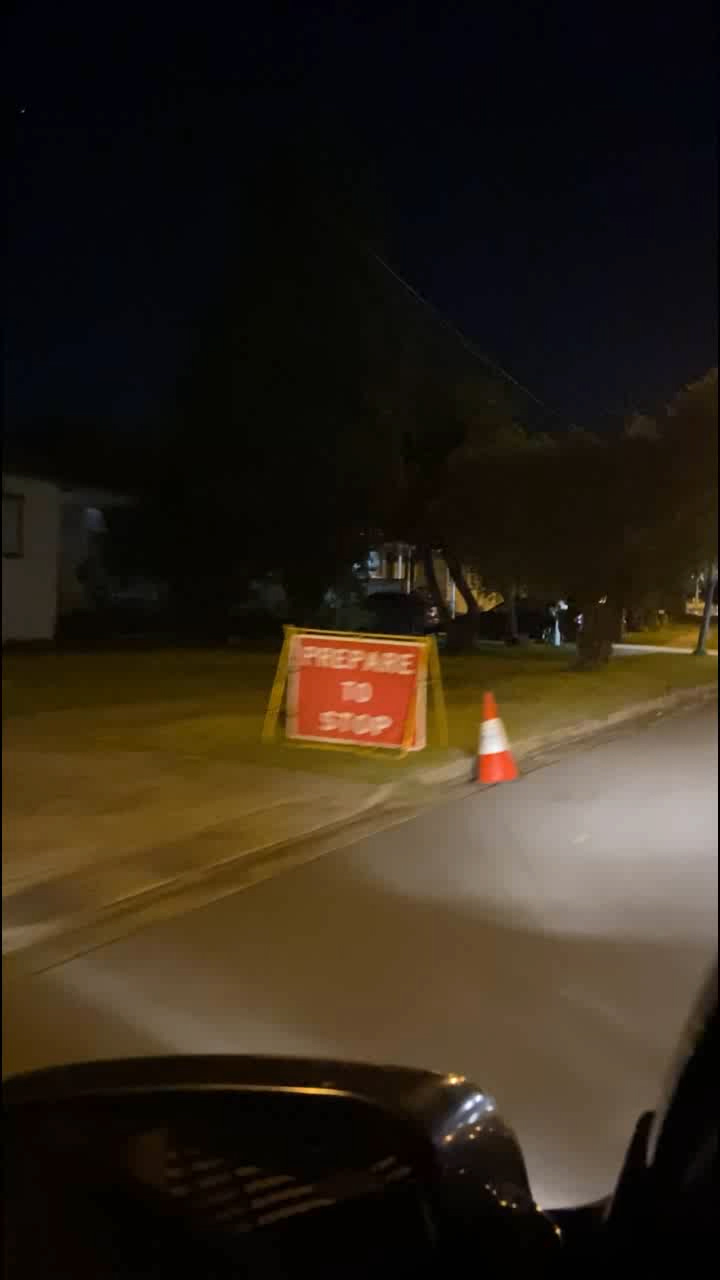prepare to stop board: (273, 623, 430, 762)
road cone: (473, 692, 518, 787)
